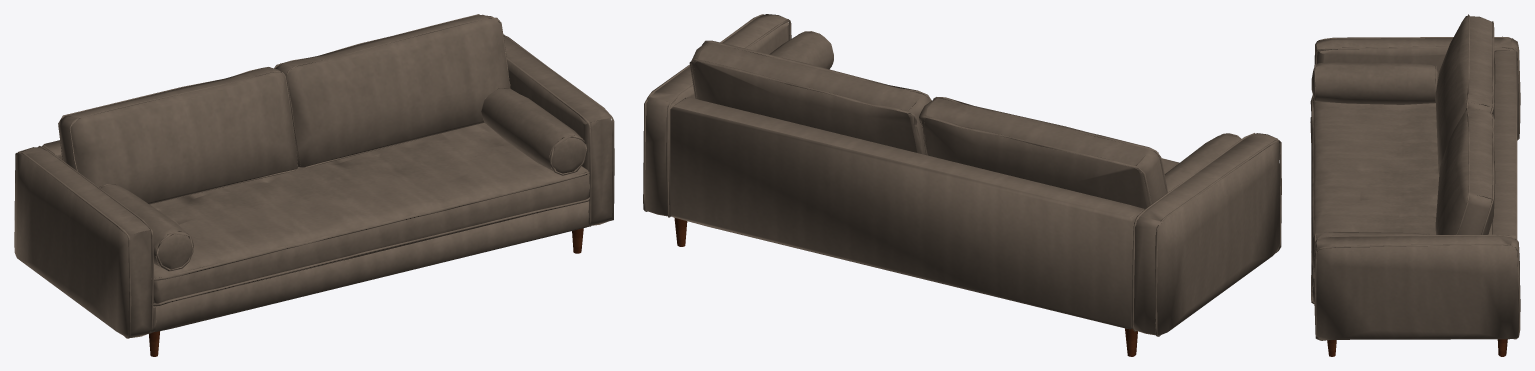
The picture shows the model from 3 angles, left to right: view 1: azimuth 30°, elevation 25°; view 2: azimuth 150°, elevation 25°; view 3: azimuth 270°, elevation 25°; orthographic projection. The views are drawn at different scales.
Visible parts, largest first — view 1: visual_RootNode; view 2: visual_RootNode; view 3: visual_RootNode.
Boxes of the visible parts, x1,y1,x2,y2 form: visual_RootNode: (14,14,614,356); visual_RootNode: (643,14,1281,356); visual_RootNode: (1310,14,1520,356).
Size of the model in its own units: 2.19 by 0.9184 by 0.7699.
Materials: 1 (1 with a texture image).
